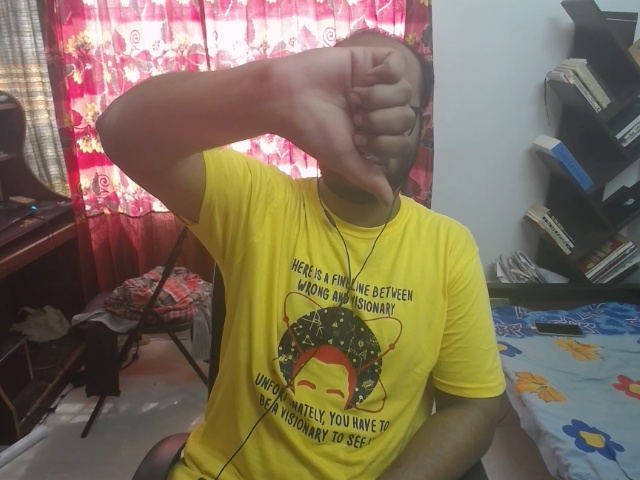nine: (277, 26, 467, 227)
